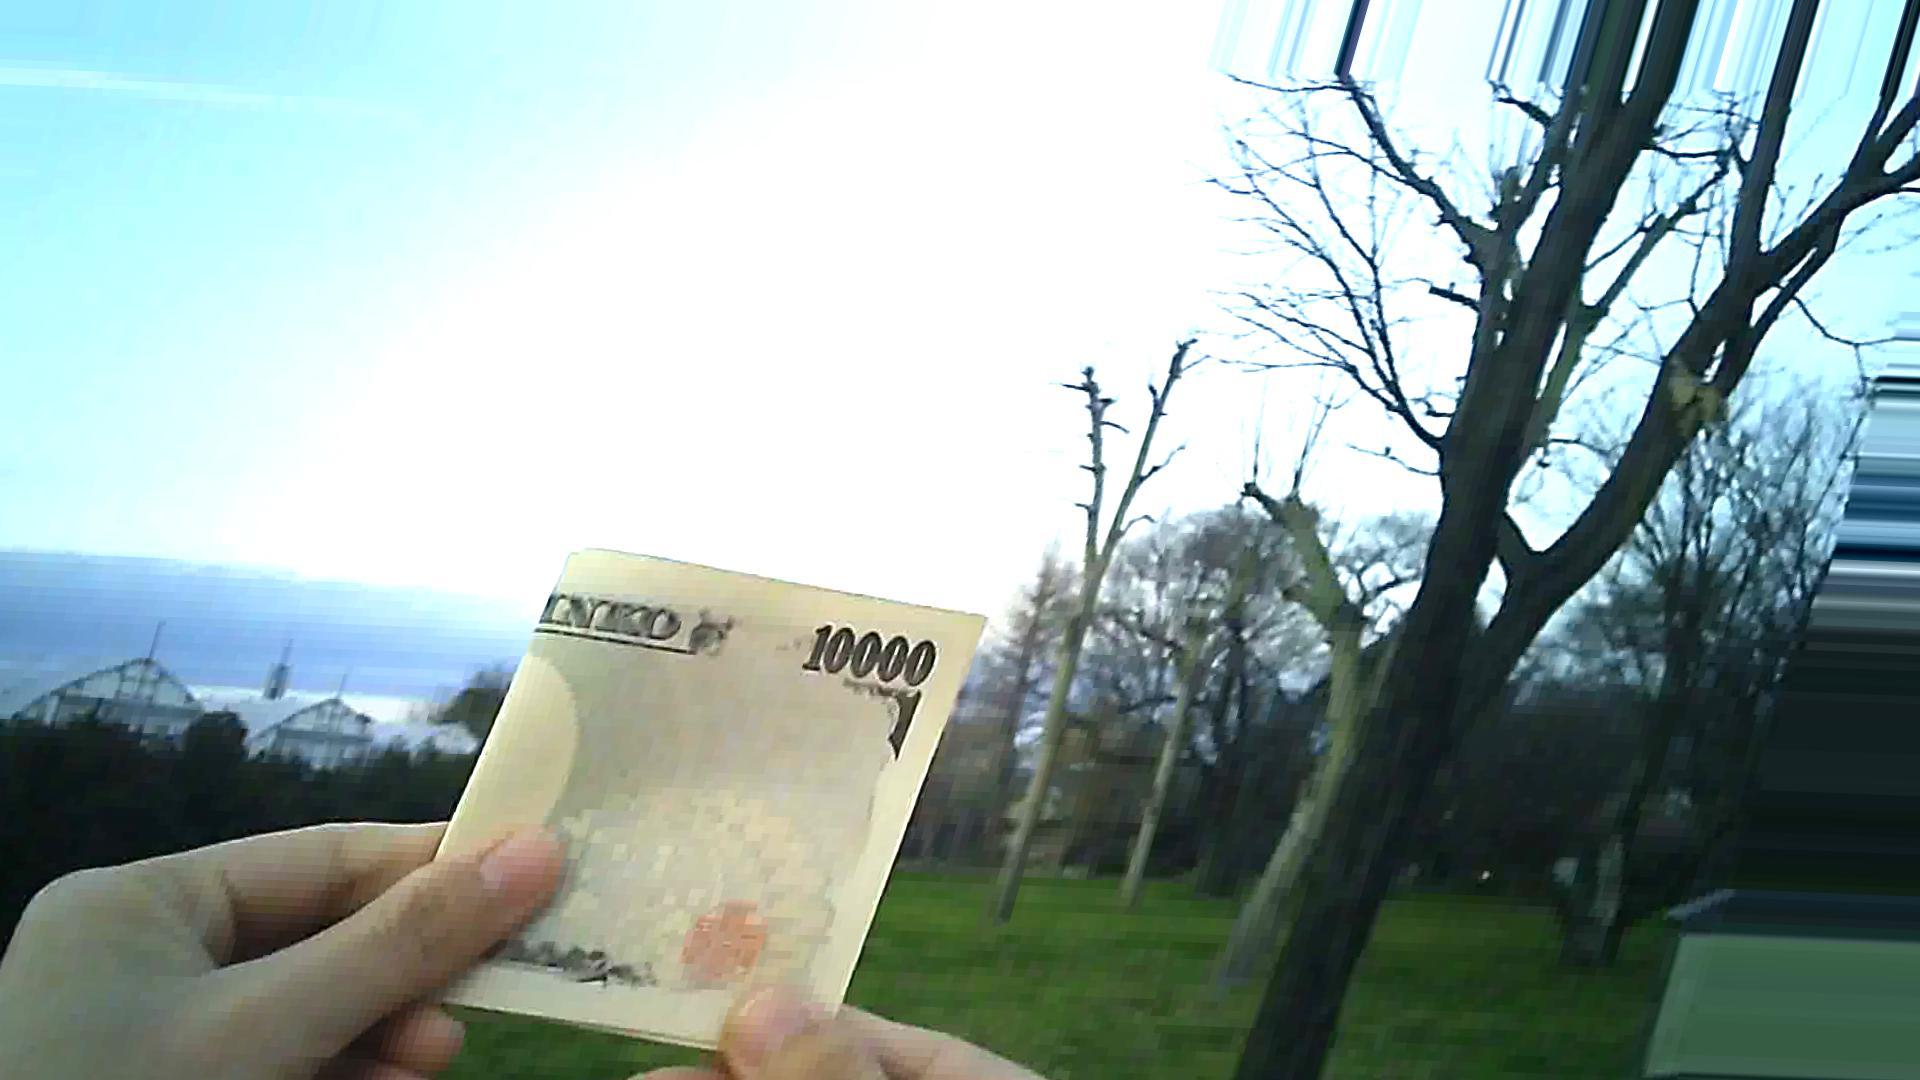10,000 Yen: (406, 529, 971, 1051)
